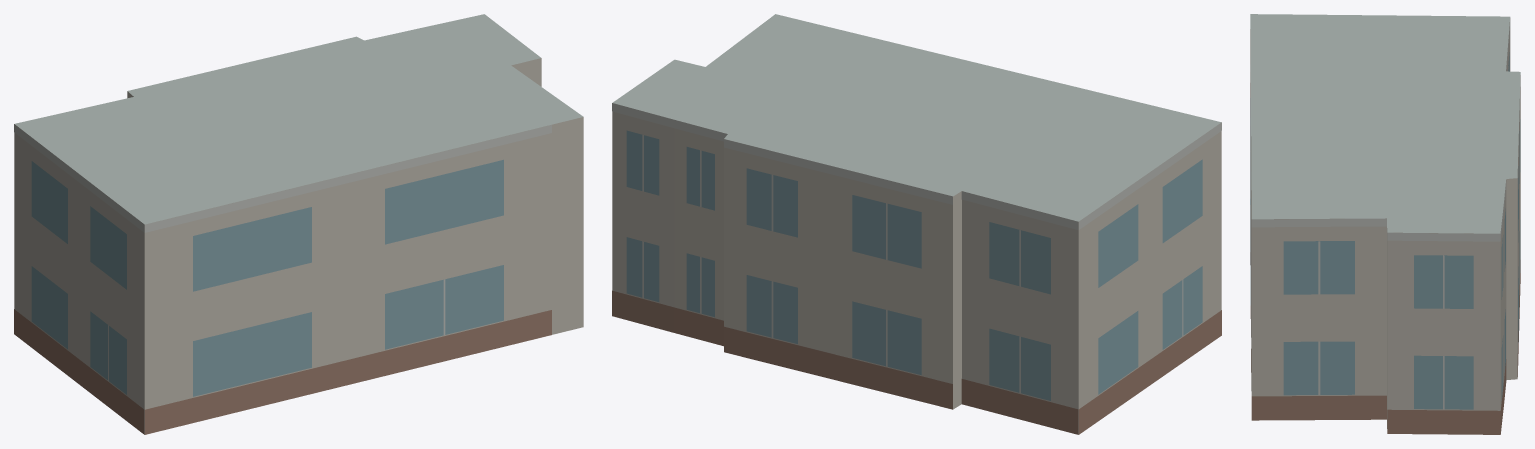
The model's file is survey-upis-33006335.glb.
3 views of the same model, side by side, from view 1: azimuth 30°, elevation 25°; view 2: azimuth 150°, elevation 25°; view 3: azimuth 270°, elevation 25° (orthographic). The views are drawn at different scales.
Visible parts, largest first — view 1: survey-upis-33006335.tmp; view 2: survey-upis-33006335.tmp; view 3: survey-upis-33006335.tmp.
Boxes of the visible parts, bbox=[...] form: survey-upis-33006335.tmp: bbox=[14, 14, 583, 434]; survey-upis-33006335.tmp: bbox=[612, 14, 1221, 434]; survey-upis-33006335.tmp: bbox=[1250, 14, 1520, 434].
Bounding box in the file's own units: 14.3 × 6.1 × 7.44.
